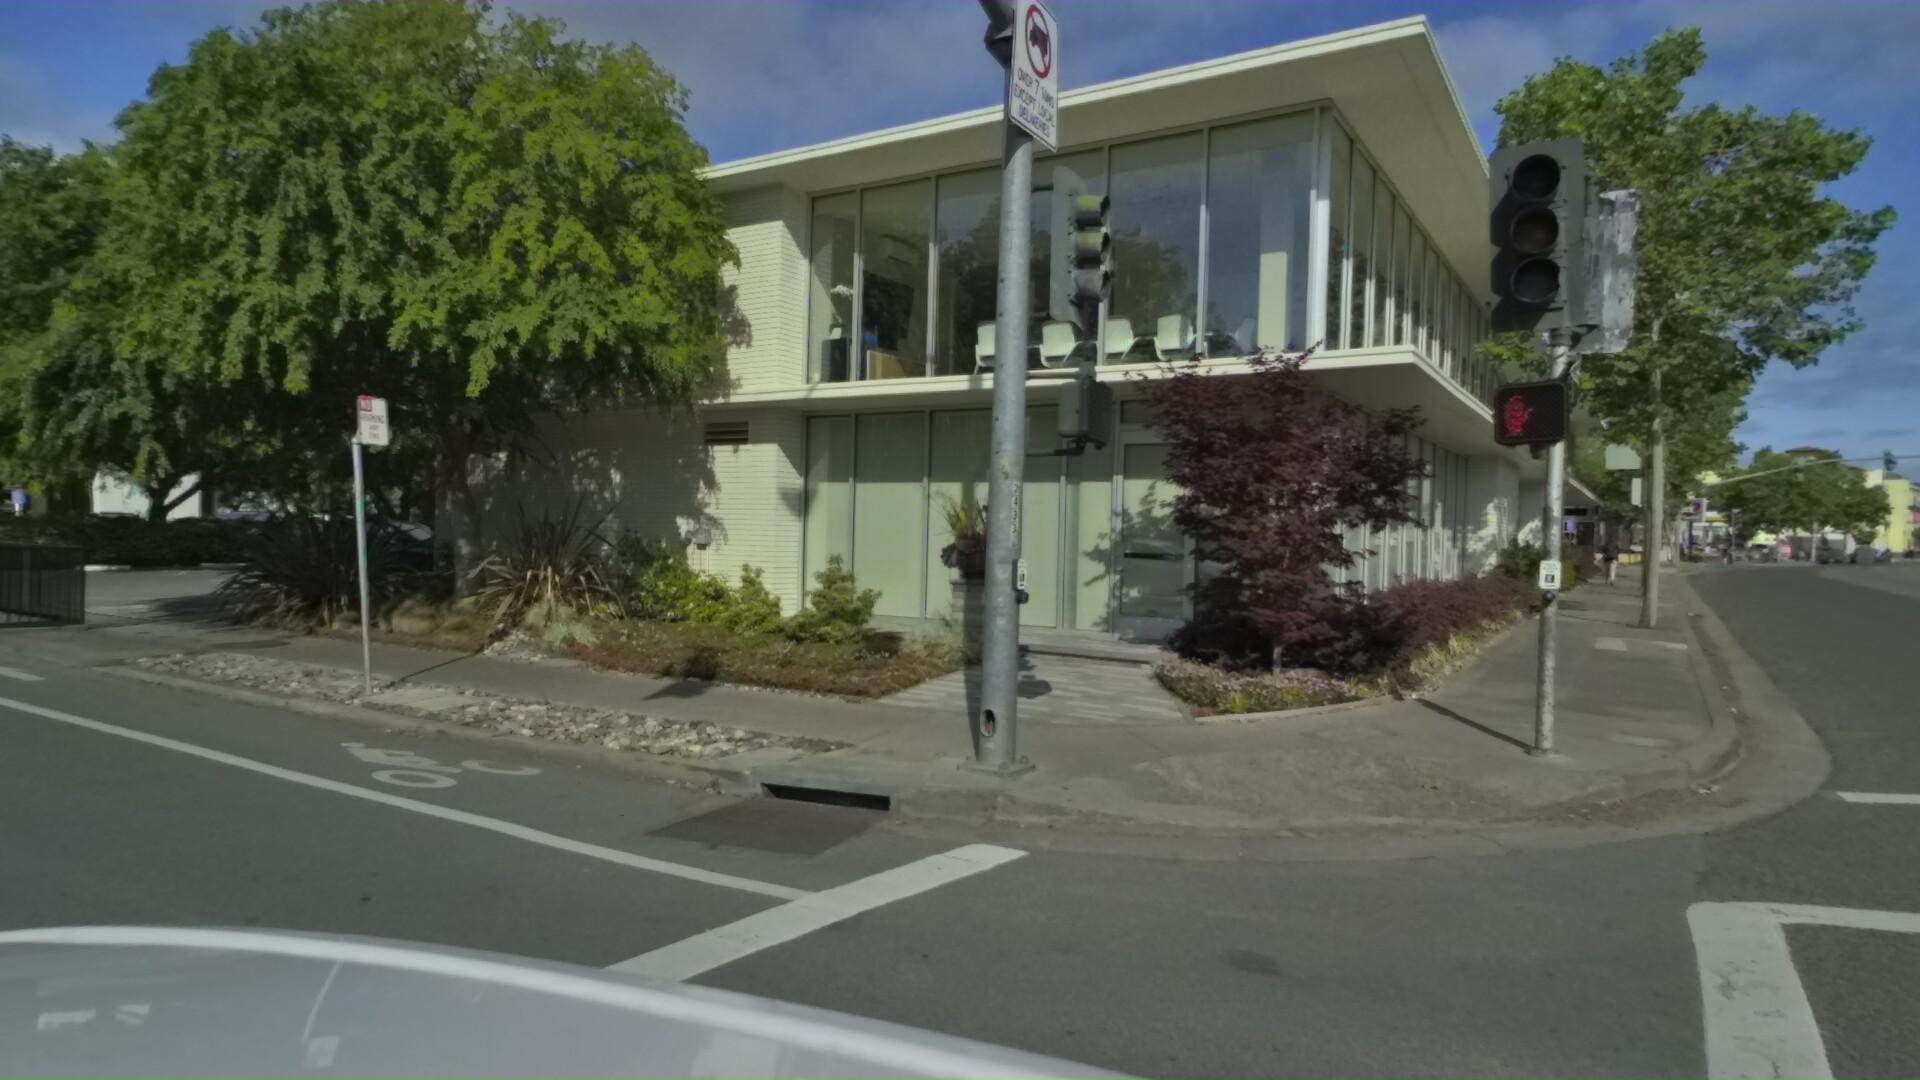car: (262, 506, 514, 591)
